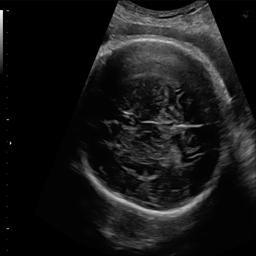normal: (74, 39, 240, 221)
